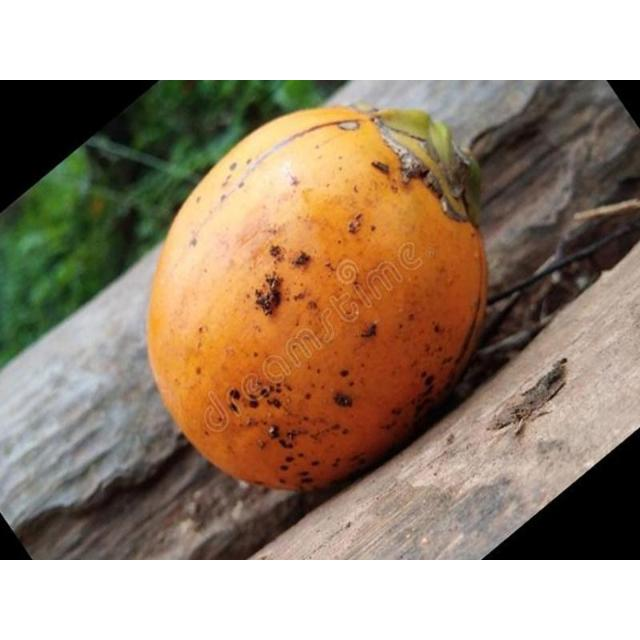good: (143, 104, 490, 496)
